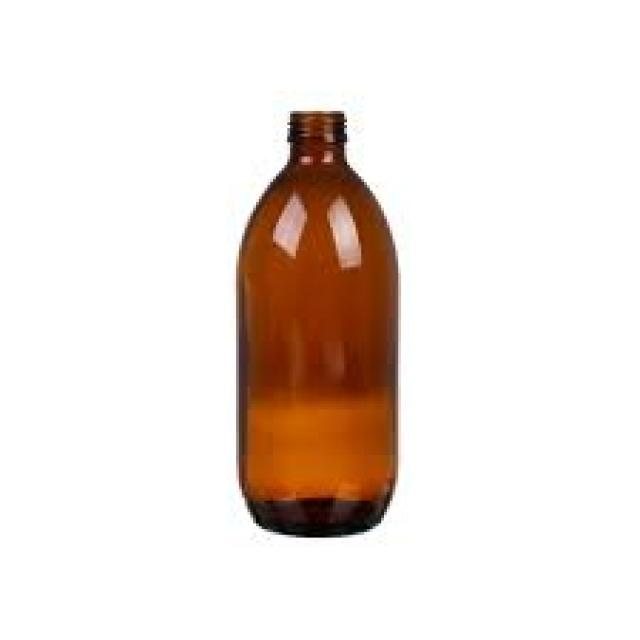glass: (236, 111, 395, 535)
